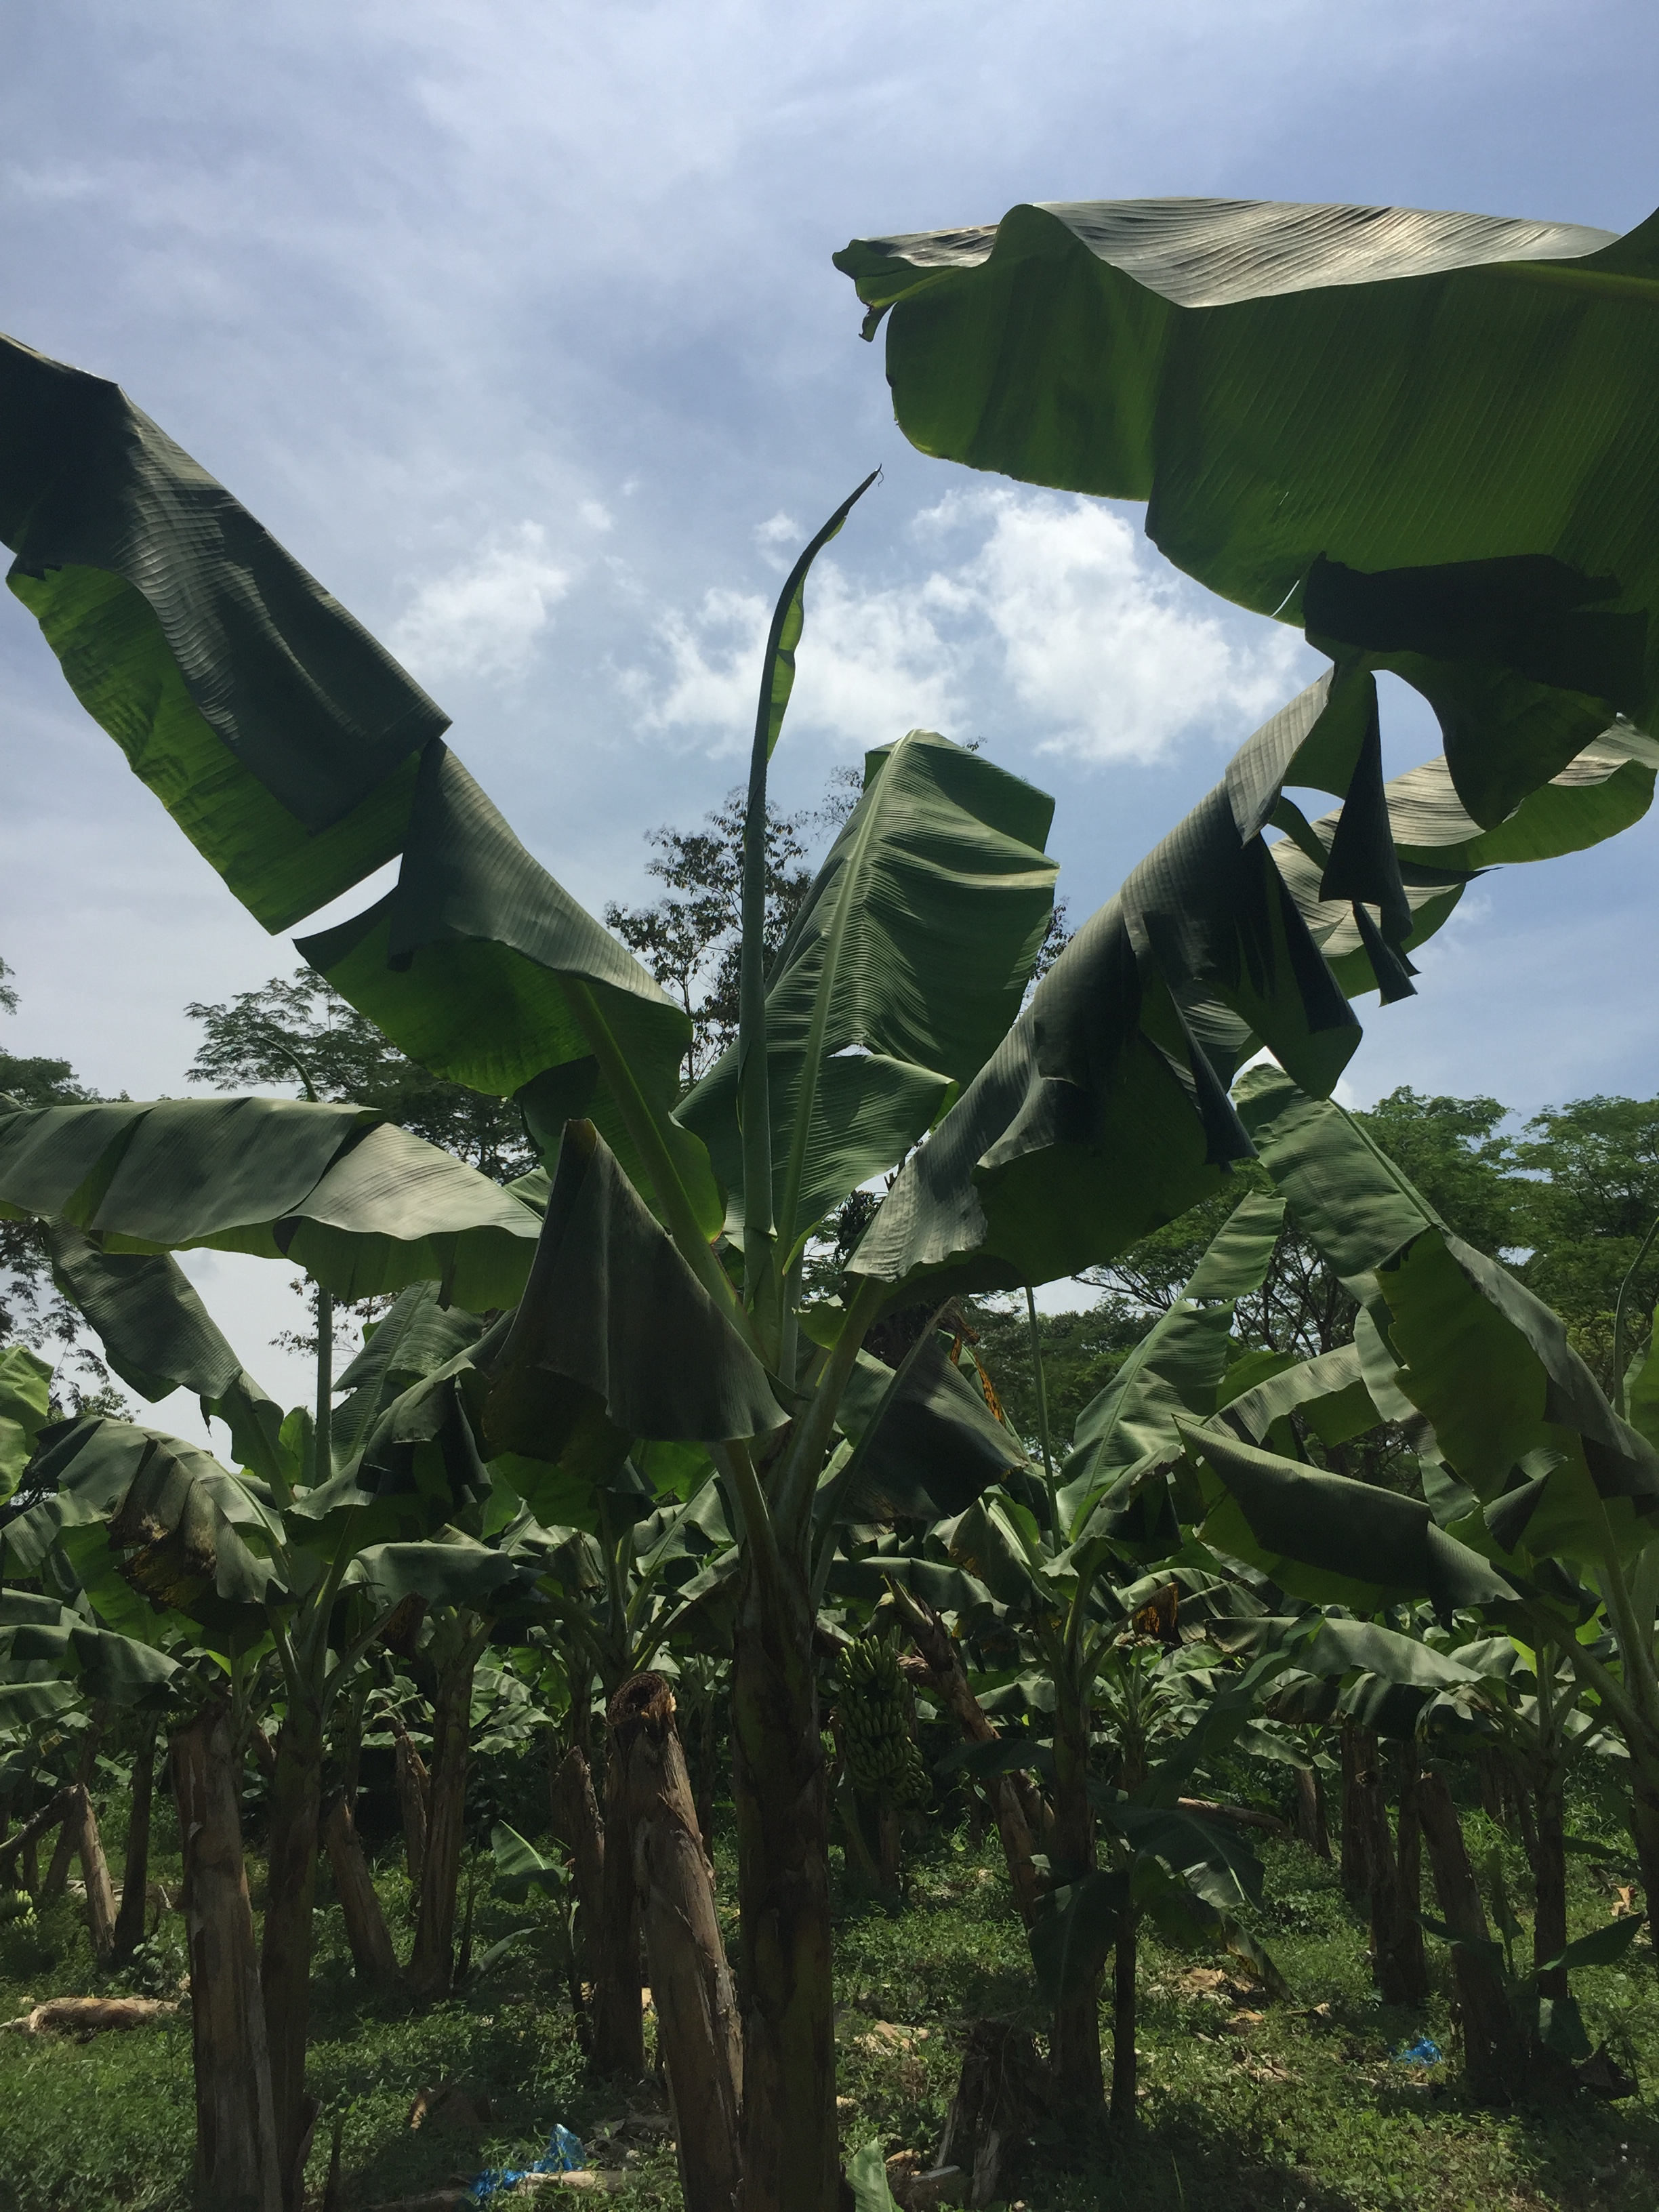candleleafs: (744, 469, 885, 1313)
